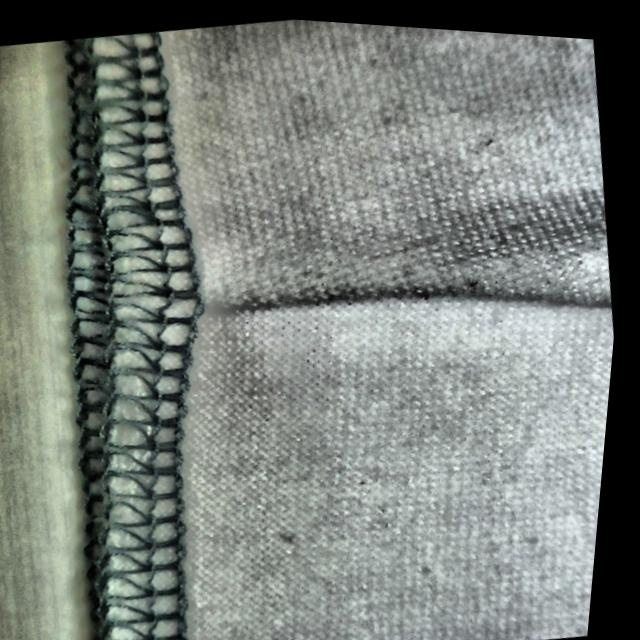seam: (93, 174, 463, 402)
